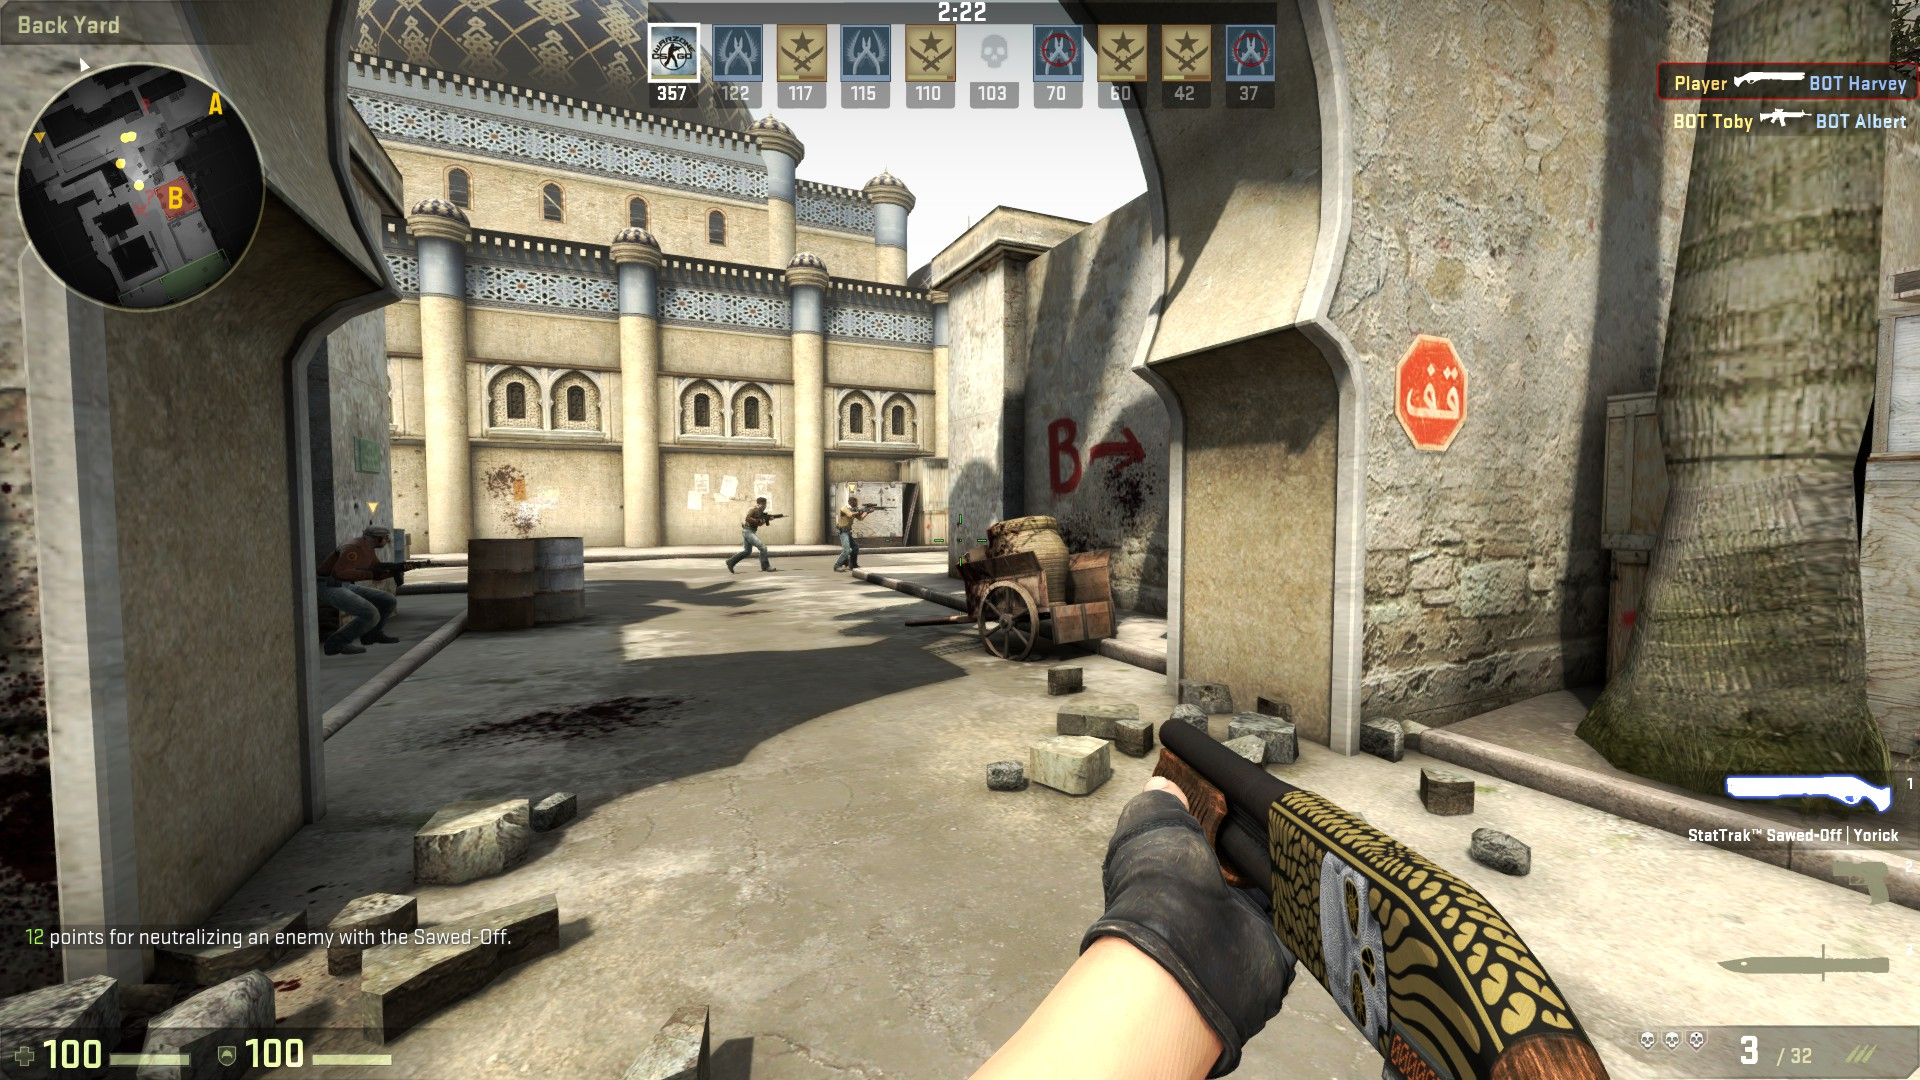t: (319, 524, 397, 657), (741, 495, 769, 574), (835, 496, 862, 572)
th: (361, 524, 390, 550), (754, 496, 769, 512), (847, 497, 858, 509)
